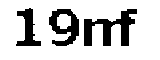1: (11, 6, 43, 51)
9: (47, 5, 79, 50)
f: (117, 4, 141, 50)
m: (81, 17, 126, 52)
